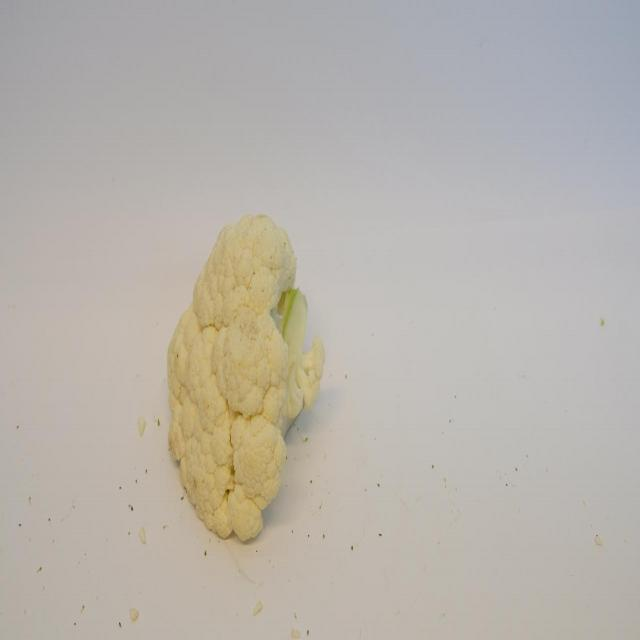cauliflower: (165, 195, 325, 546)
